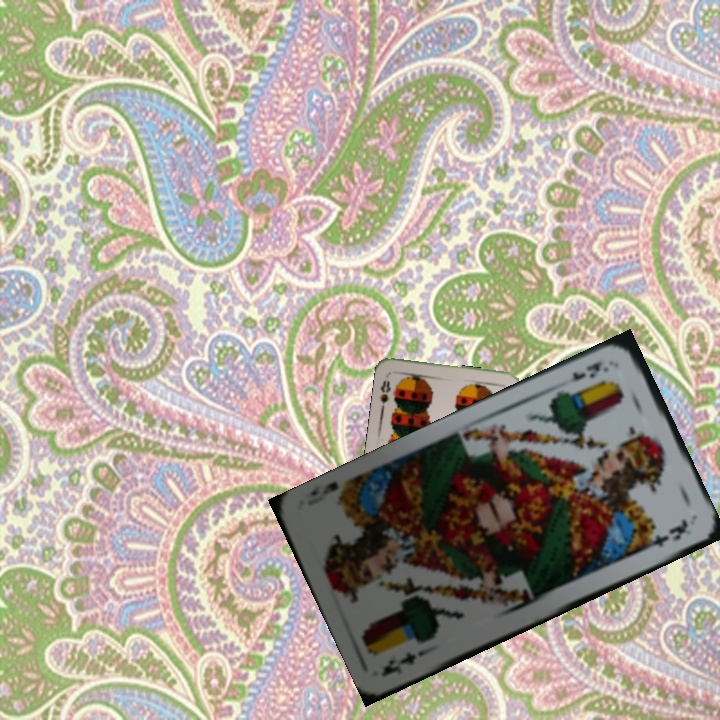EK: (378, 644, 432, 680), (568, 357, 611, 384)
S8: (376, 377, 393, 411)
